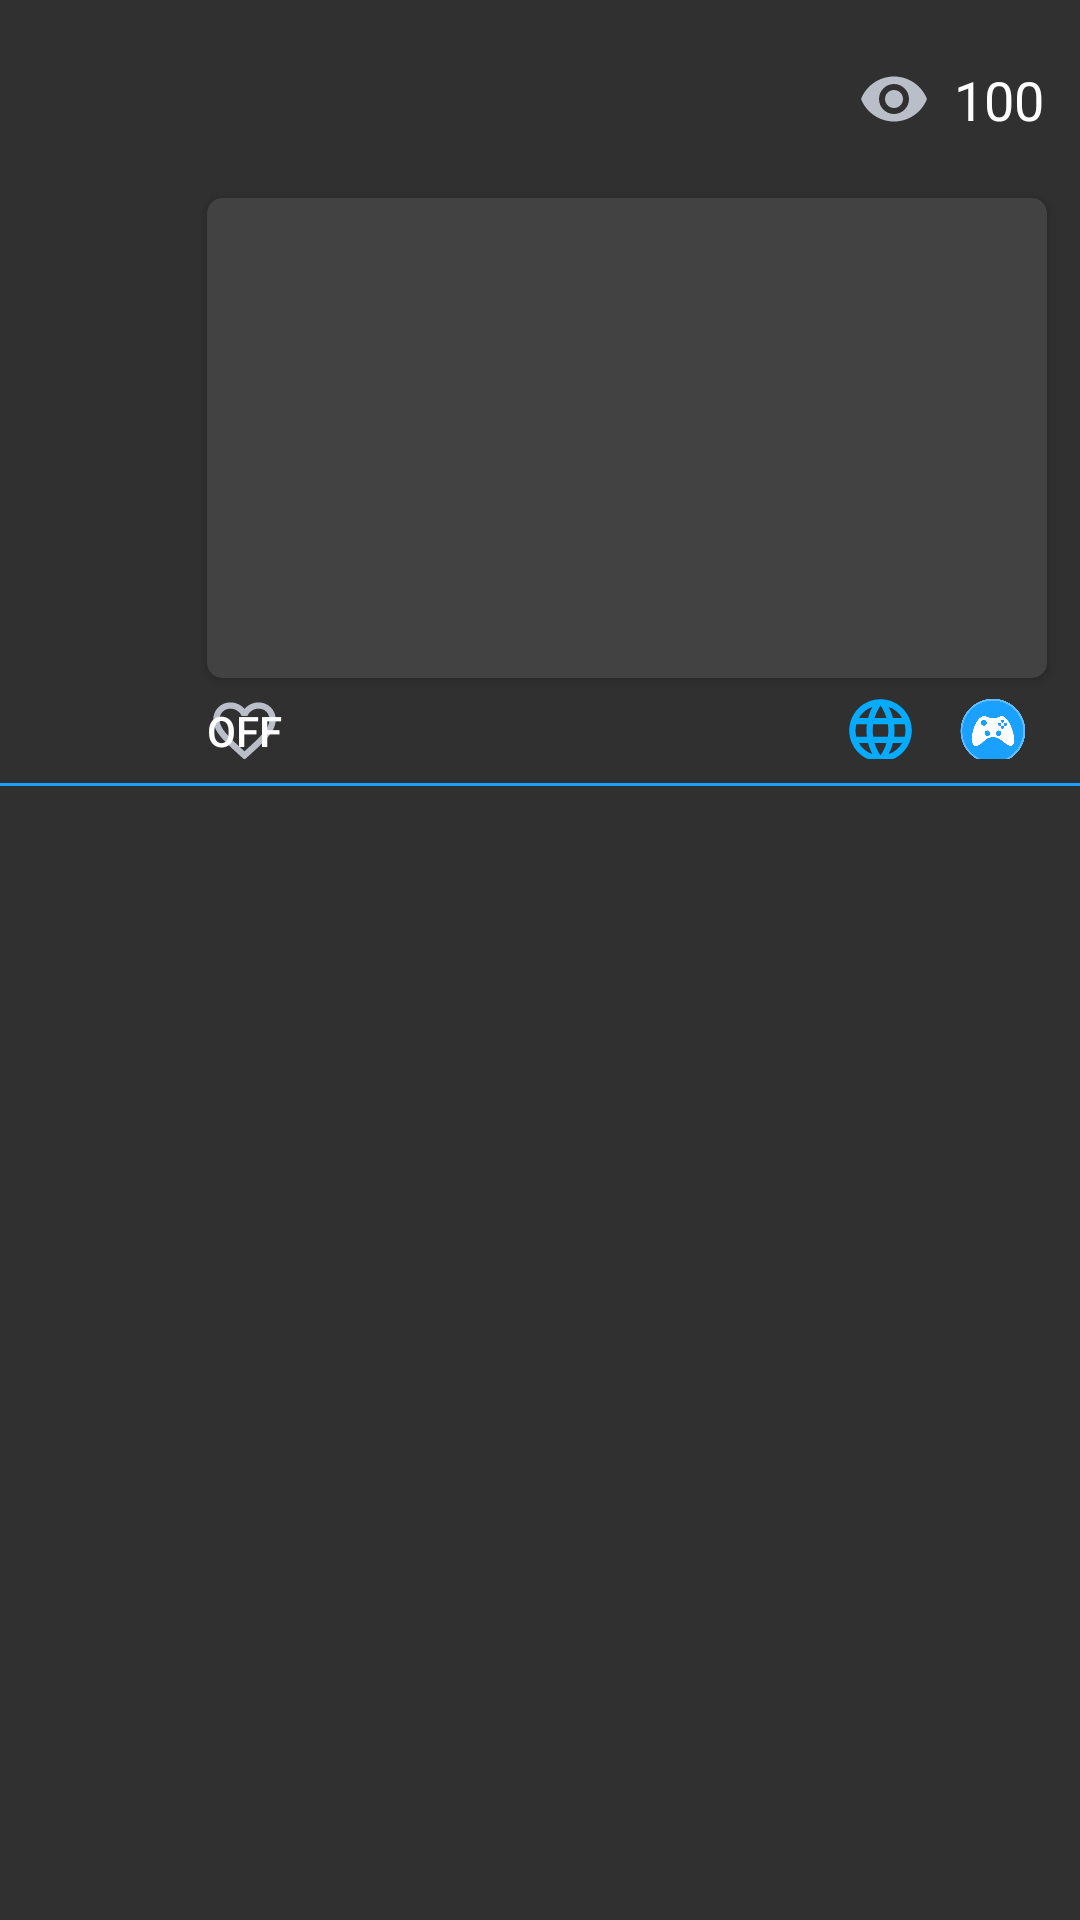

Screen size 1080 × 1920. Icon name, then its box in pixels as (x1, y1, x2, y2):
eye: (861, 76, 927, 122)
game: (960, 699, 1025, 759)
